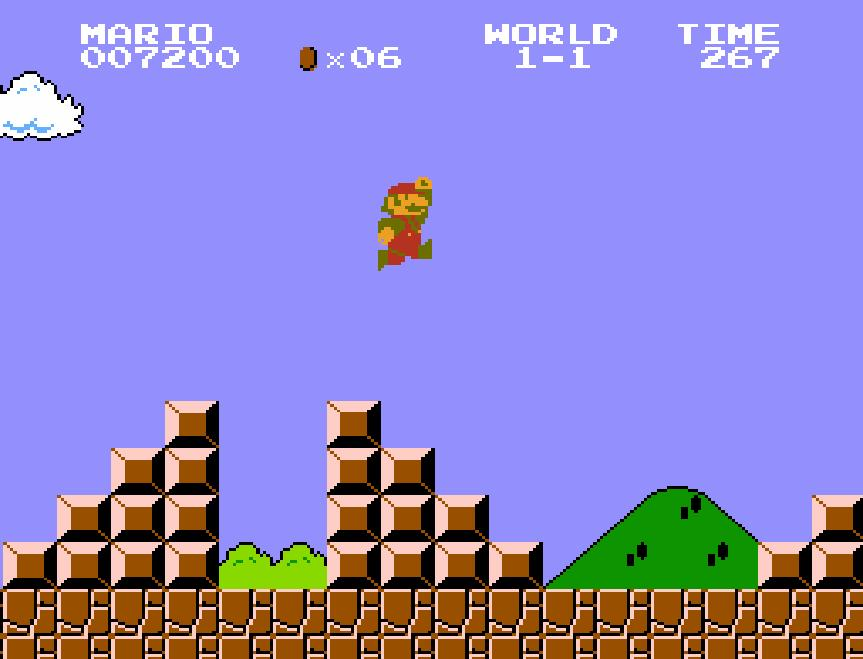big_mario: (376, 174, 434, 272)
